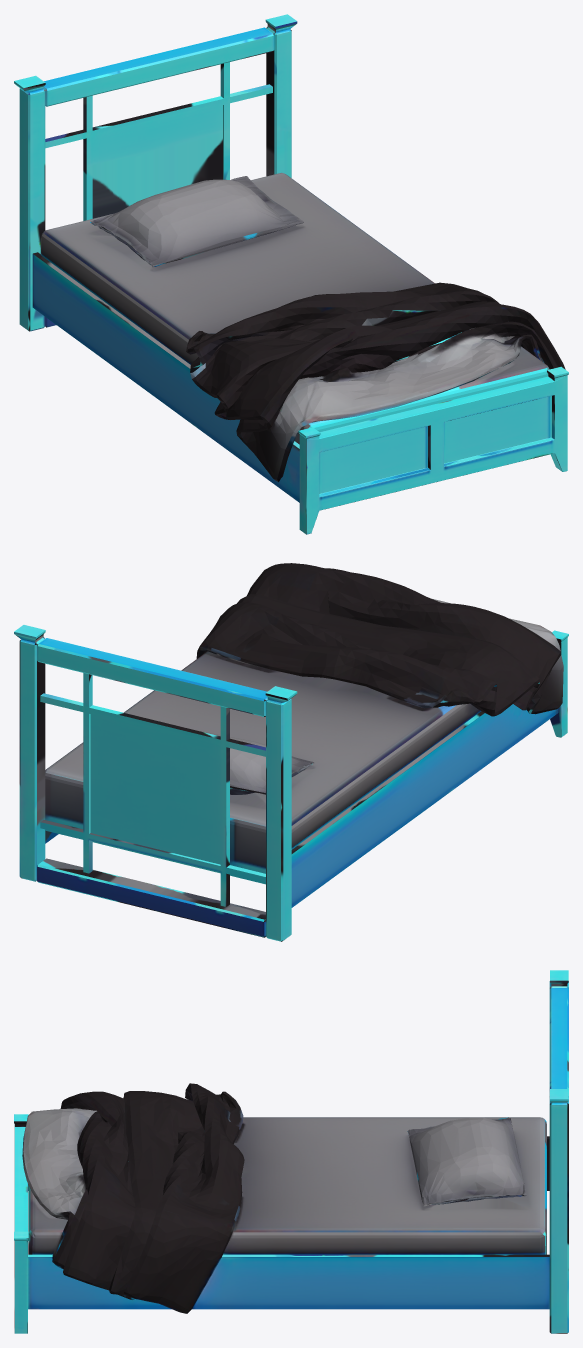
Rendered from edited_mesh.glb.
3 views of the same model, one above another, from view 1: azimuth 30°, elevation 25°; view 2: azimuth 150°, elevation 25°; view 3: azimuth 270°, elevation 25° (orthographic). The views are drawn at different scales.
Visible parts, largest first — view 1: solid_001_wire; view 2: solid_001_wire; view 3: solid_001_wire.
Boxes of the visible parts, left/top/right/bottom form: solid_001_wire: left=14, top=14, right=568, bottom=534; solid_001_wire: left=14, top=563, right=568, bottom=941; solid_001_wire: left=14, top=970, right=568, bottom=1333.
Size of the model in its own units: 1.29 by 0.9447 by 2.
Materials: 1 (1 with a texture image).
